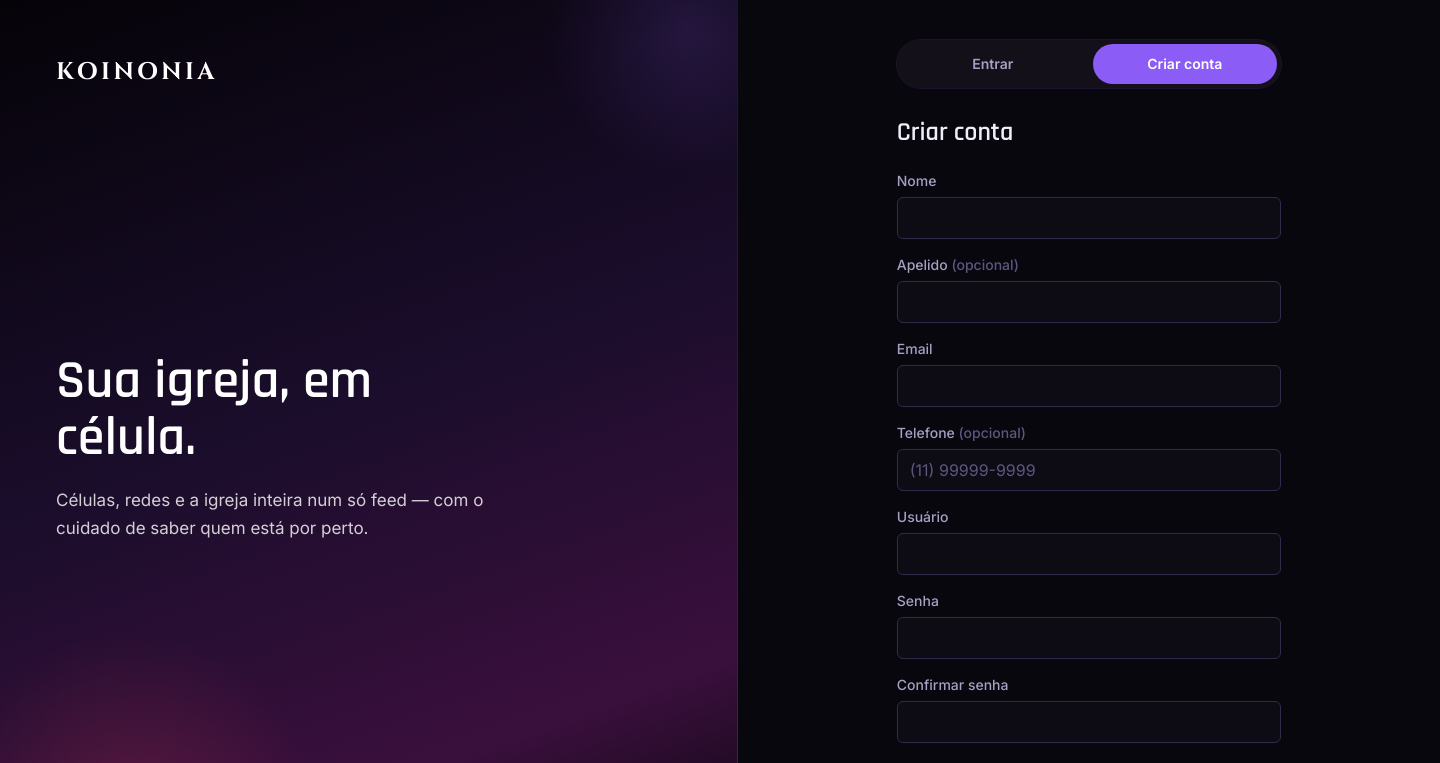
Test: RegisterPage › barra usuário fora do padrão aceito pelo backend
This screenshot has width=1440, height=763.
Step 1. Type "Willians Martins" into the field labelled "Nome" → (1089, 218), box [897,197,1281,239]
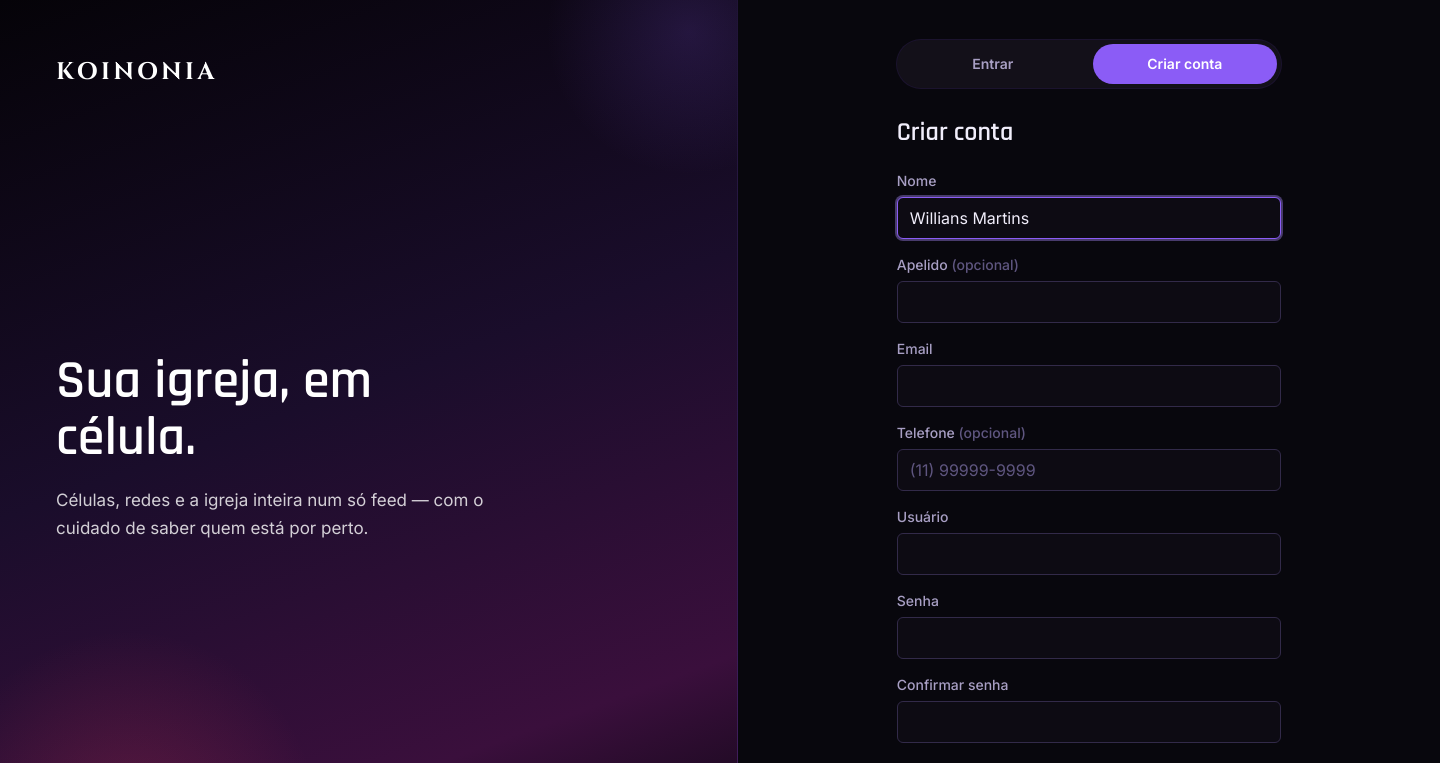
Step 2. Type "wills@example.com" into the field labelled "Email" → (1089, 386), box [897,365,1281,407]
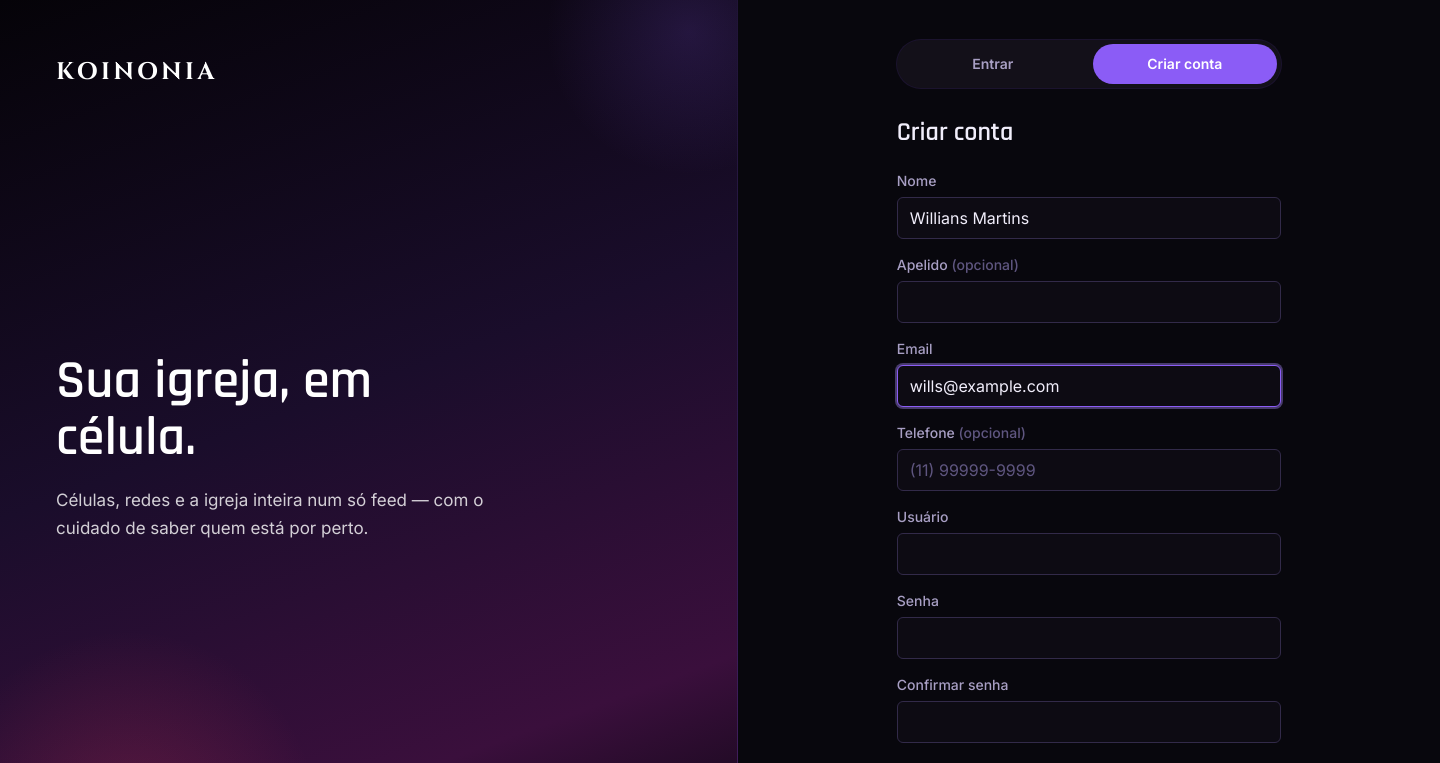
Step 3. Type "espaço inválido" into the field labelled "Usuário" → (1089, 554), box [897,533,1281,575]
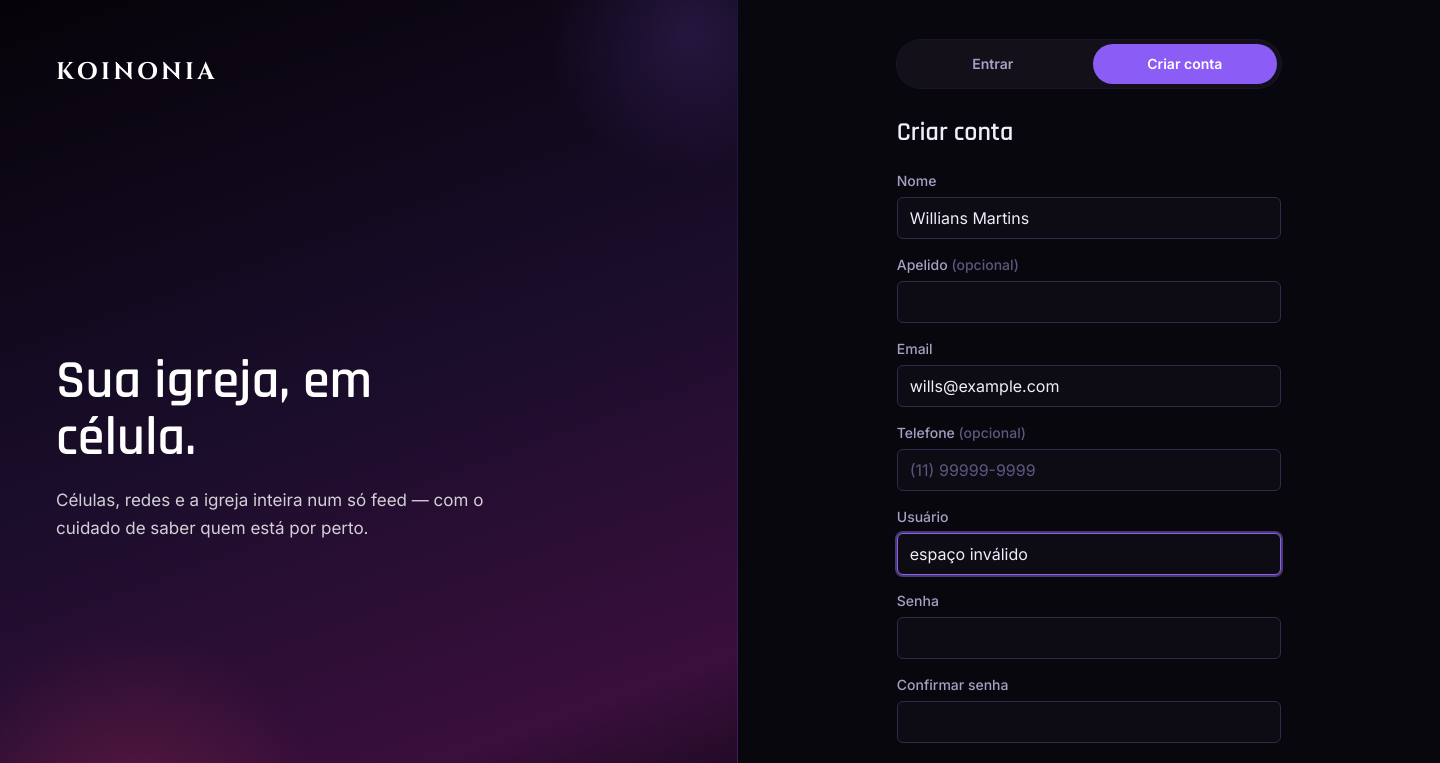
Step 4. Type "senha-forte-123" into the password field labelled "Senha" → (1089, 638), box [897,617,1281,659]
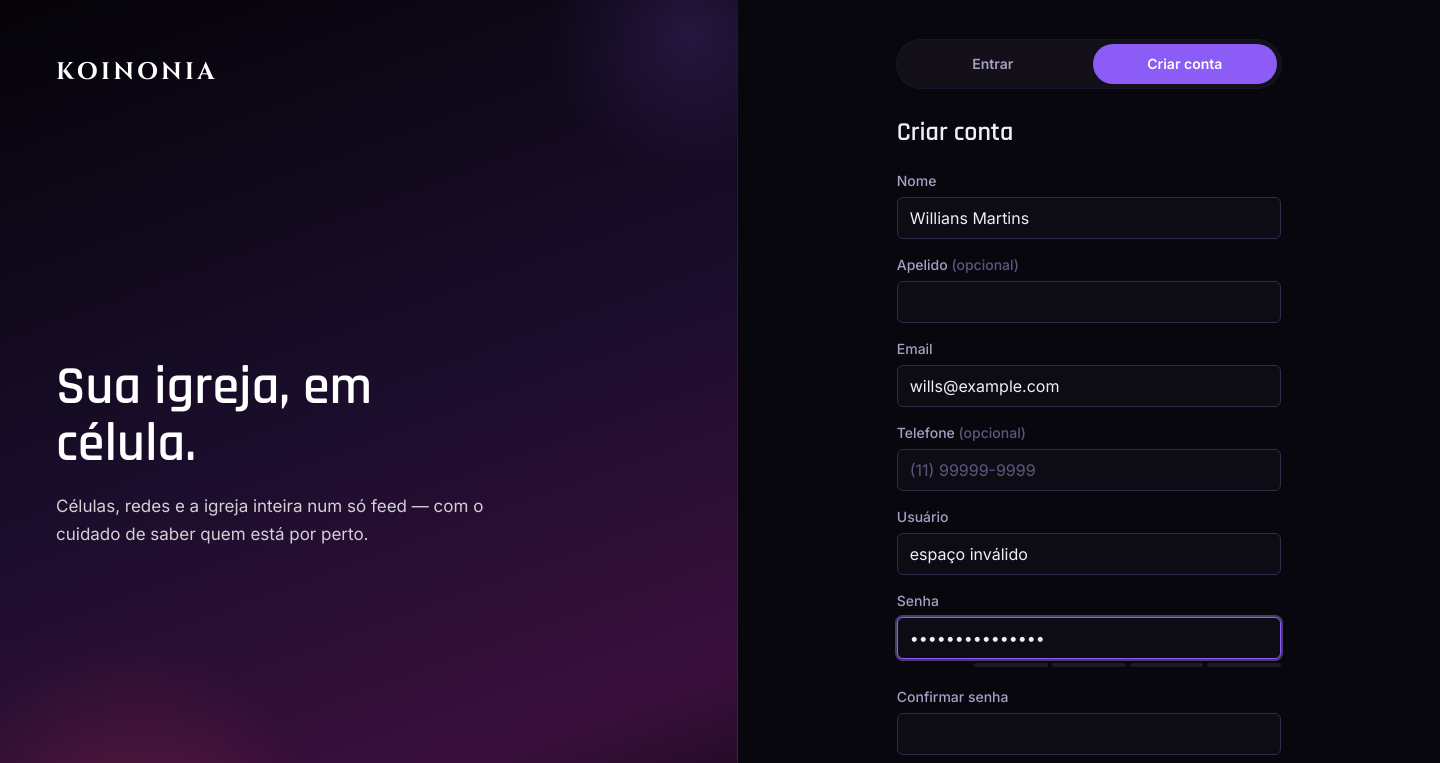
Step 5. Type "senha-forte-123" into the password field labelled "Confirmar senha" → (1089, 734), box [897,713,1281,755]
(page scrolled)
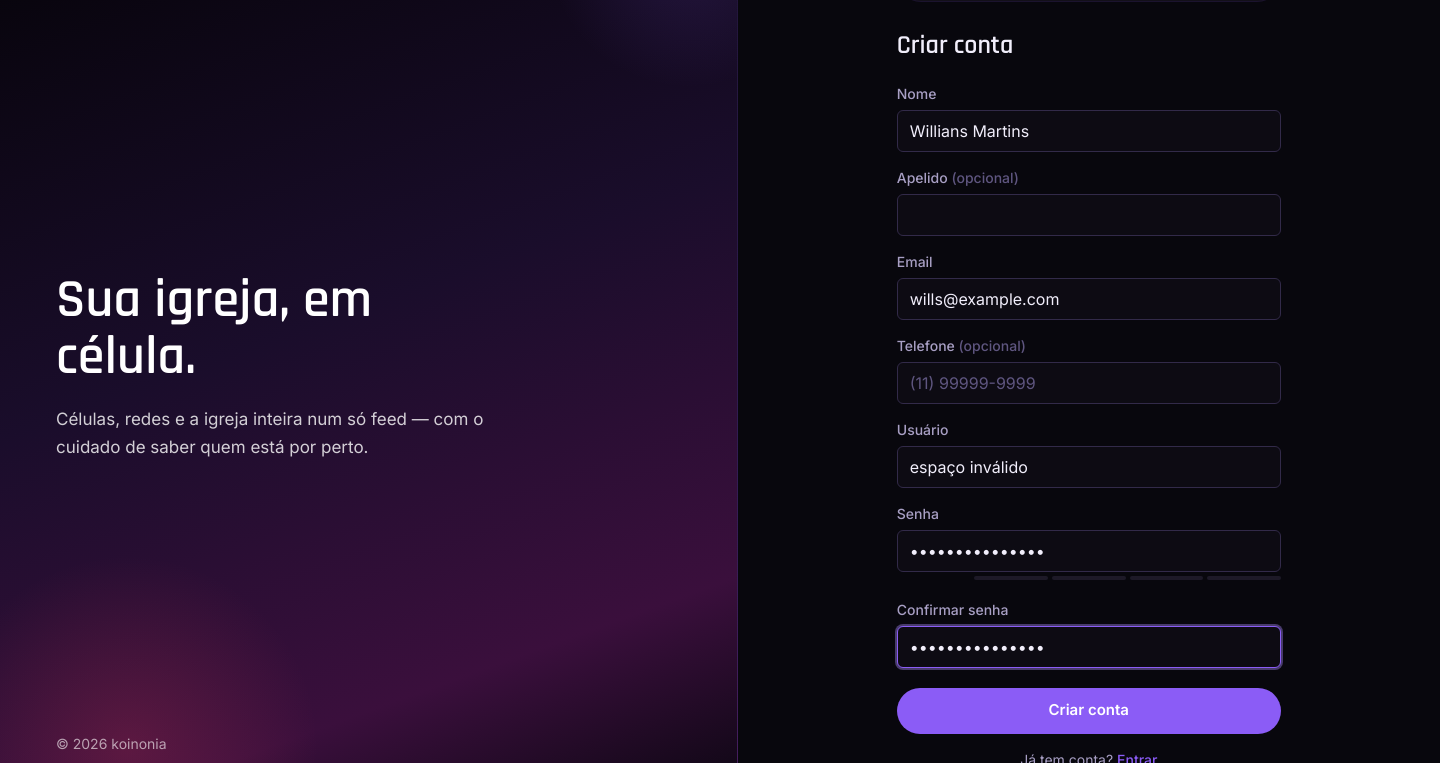
Step 6. Click the button "Criar conta" → click(1089, 711), box [897,688,1281,734]
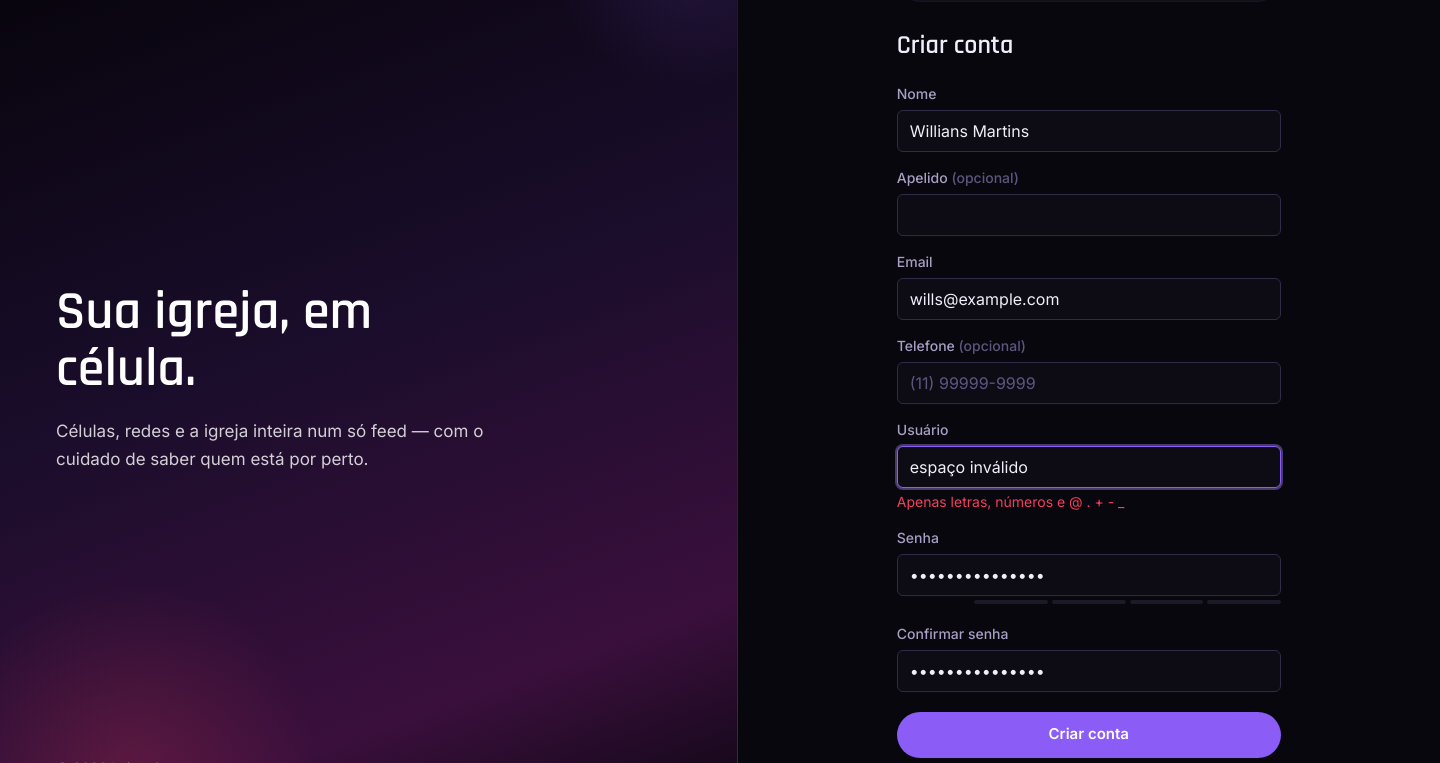
Now the text "Apenas letras, números e @ . + - _" is shown, box [897,493,1124,510]
